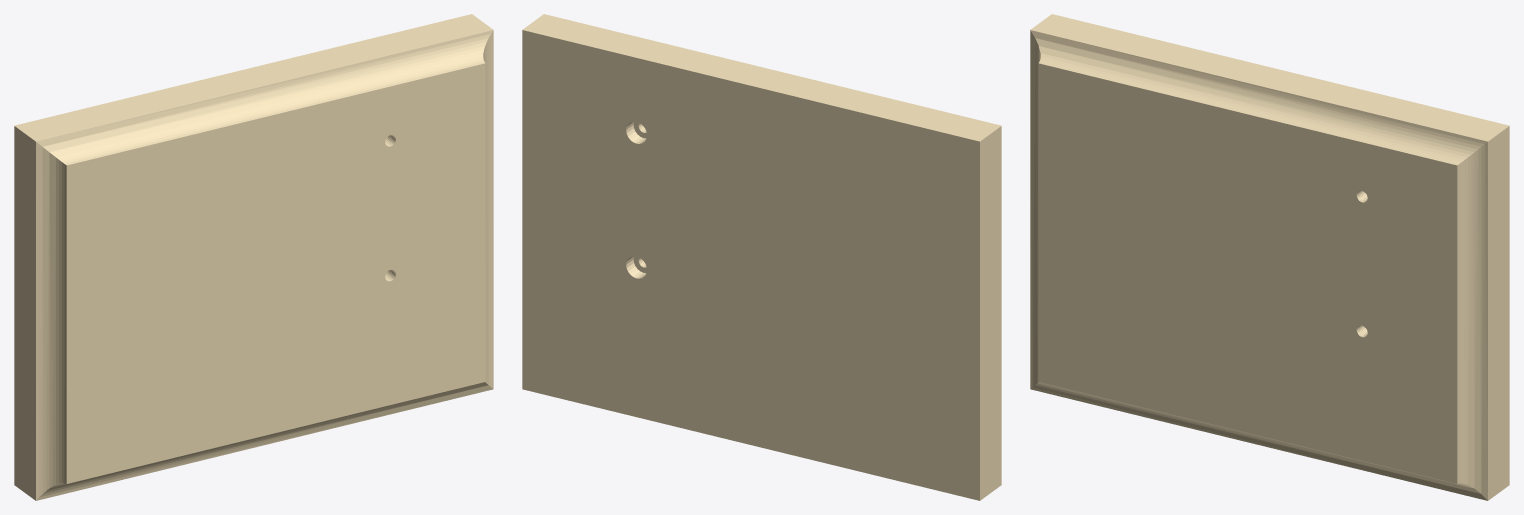
File: engine_base.glb
3 renders of one model, left to right at view 1: azimuth 30°, elevation 25°; view 2: azimuth 150°, elevation 25°; view 3: azimuth 330°, elevation 25°, orthographic.
Parts seen in each view (by area): view 1: Node1; view 2: Node1; view 3: Node1.
Part boxes in pixels (box(x1,y1,x2,y2)): Node1: box(14, 14, 493, 500); Node1: box(522, 14, 1001, 500); Node1: box(1030, 14, 1509, 500).
Bounding box in the file's own units: 102 × 76.2 × 12.7.
